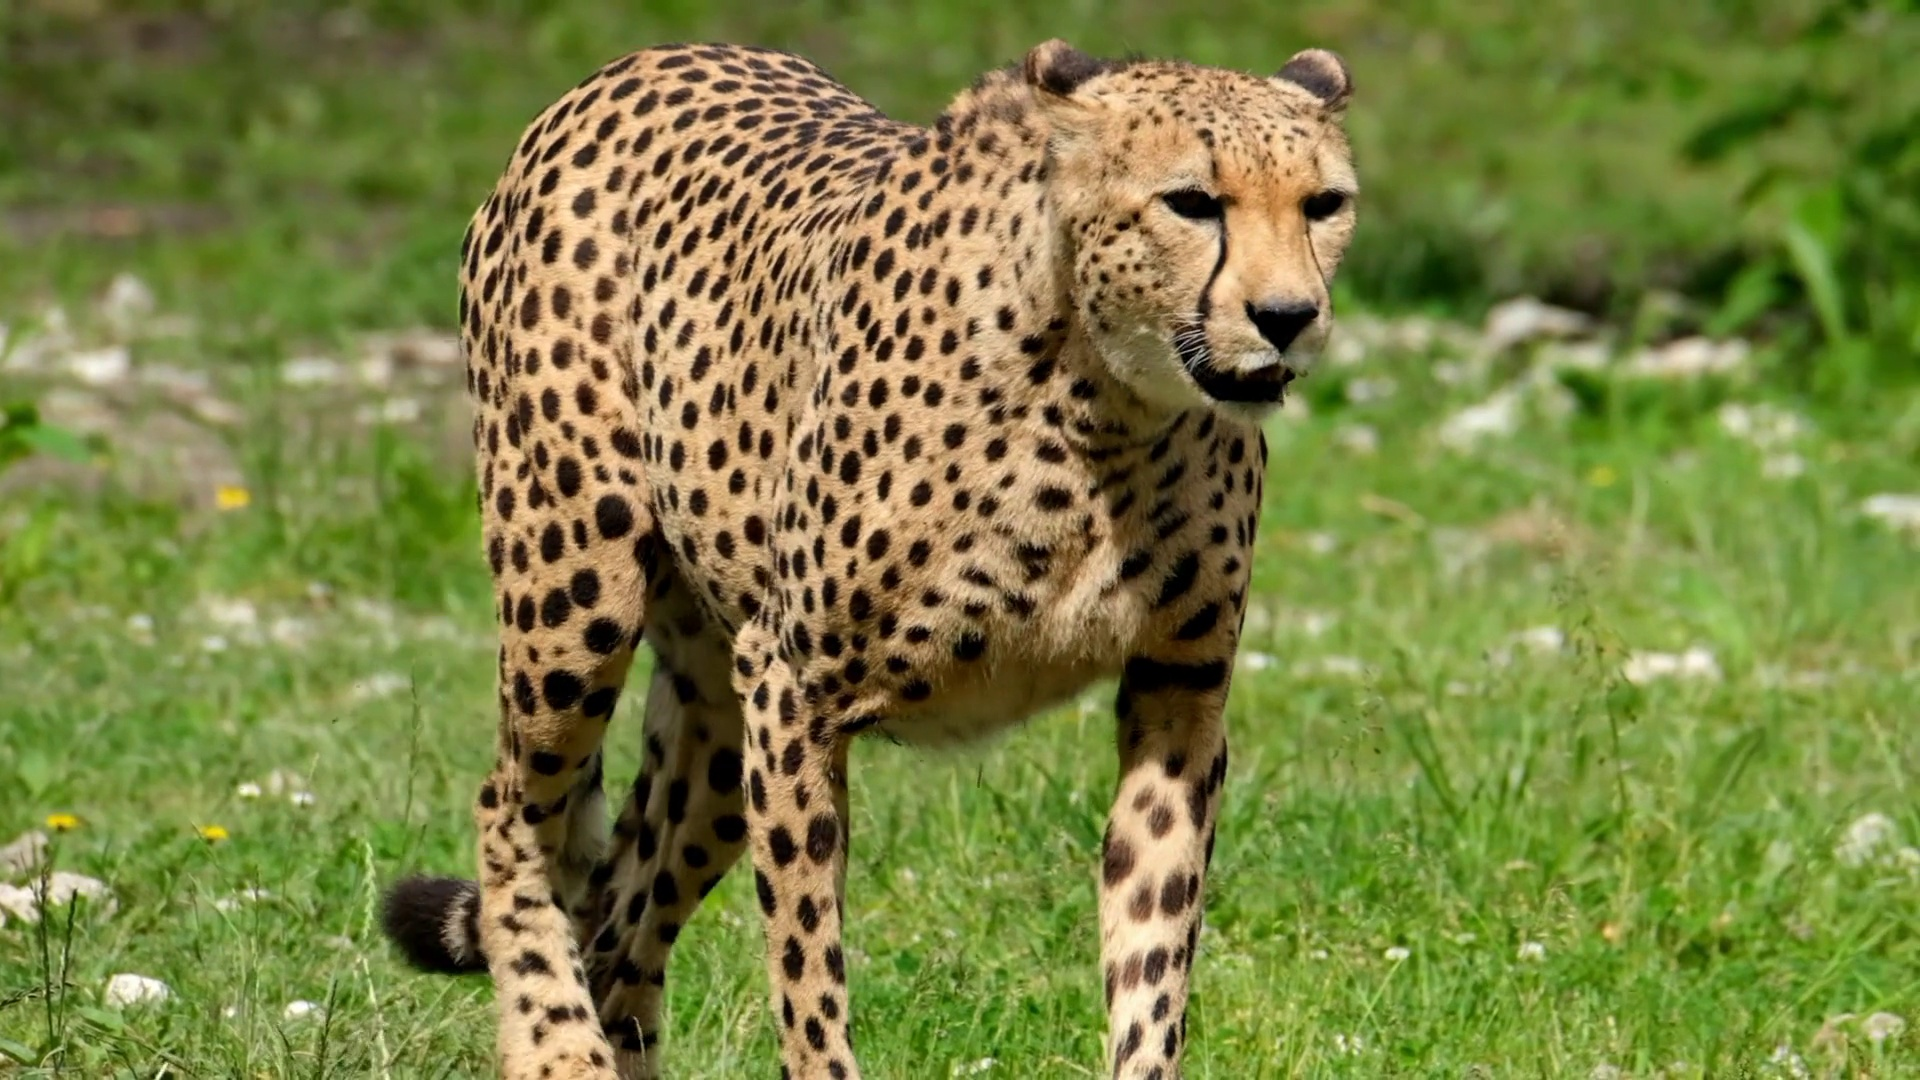Cheetah: (378, 30, 1358, 1080)
